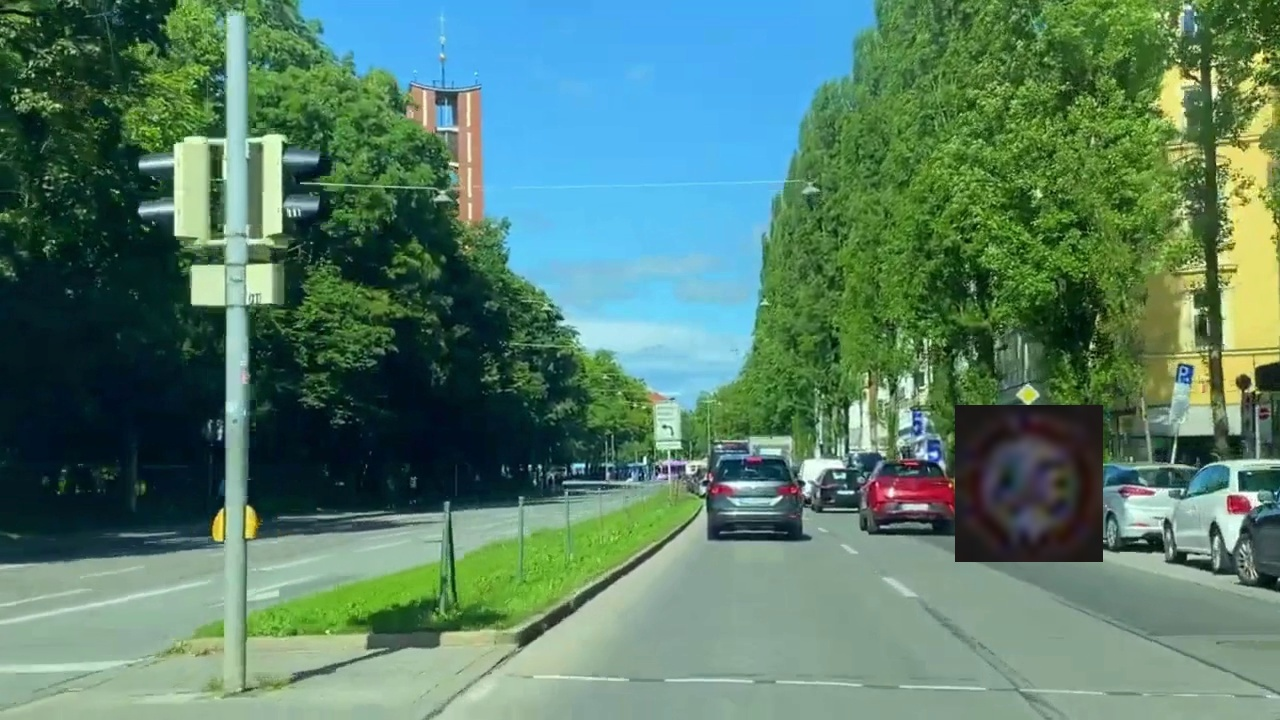Speed 60: (955, 405, 1103, 562)
